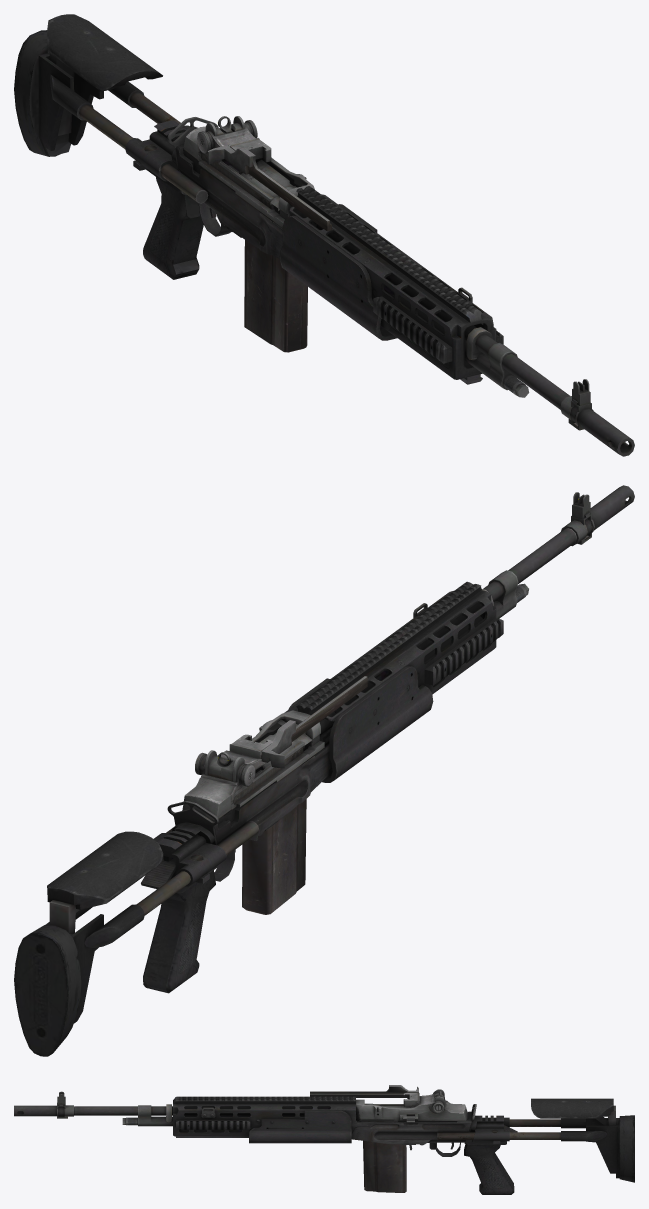
The model's file is EBR.fbx.
The picture shows the model from 3 angles, top to bottom: view 1: azimuth 30°, elevation 25°; view 2: azimuth 150°, elevation 25°; view 3: azimuth 270°, elevation 25°; orthographic projection. The views are drawn at different scales.
Parts seen in each view (by area): view 1: Mesh_0003, mag; view 2: Mesh_0003, mag; view 3: Mesh_0003, mag.
Boxes of the visible parts, x1,y1,x2,y2 form: Mesh_0003: (14, 14, 634, 456); mag: (244, 240, 307, 352); Mesh_0003: (14, 485, 634, 1056); mag: (242, 799, 306, 914); Mesh_0003: (14, 1085, 634, 1194); mag: (363, 1140, 406, 1192).
Size of the model in its own units: 9.48 by 23.53 by 131.
Materials: 3 (3 with a texture image).
